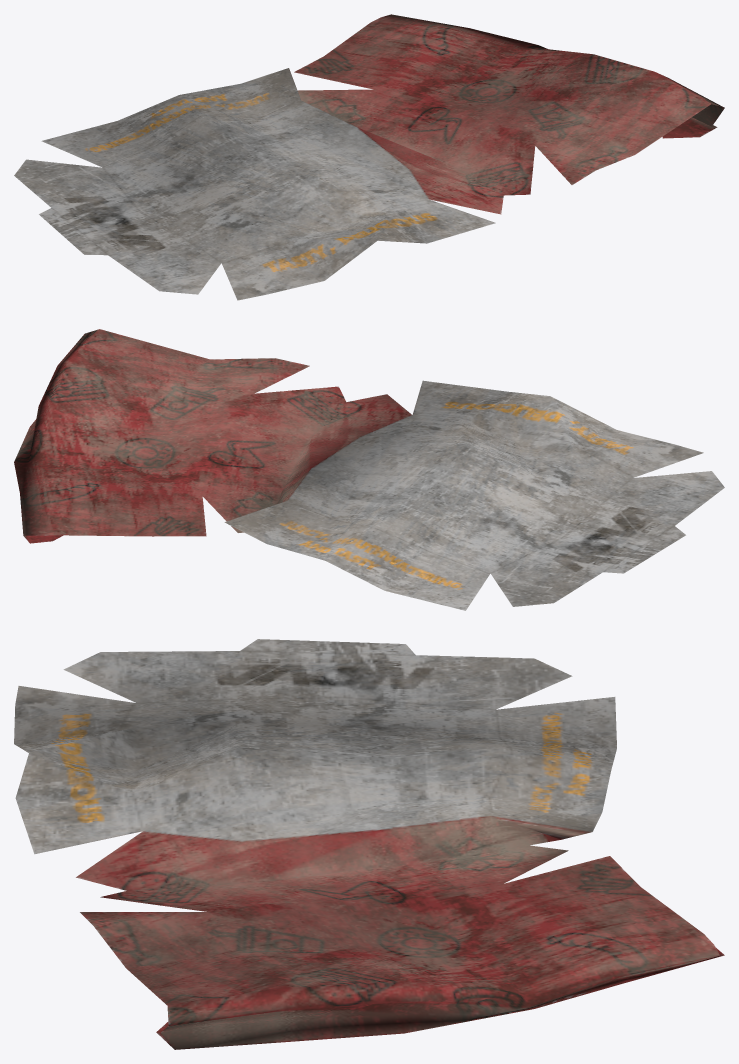
File: SM_Food_Package_Trash_01.fbx
3 renders of one model, top to bottom at view 1: azimuth 30°, elevation 25°; view 2: azimuth 150°, elevation 25°; view 3: azimuth 270°, elevation 25°, orthographic. The views are drawn at different scales.
Parts seen in each view (by area): view 1: SM_Food_Package_Trash_01_LOD0; view 2: SM_Food_Package_Trash_01_LOD0; view 3: SM_Food_Package_Trash_01_LOD0.
Part boxes in pixels (<box>): SM_Food_Package_Trash_01_LOD0: <box>14,14,724,300</box>; SM_Food_Package_Trash_01_LOD0: <box>14,329,724,610</box>; SM_Food_Package_Trash_01_LOD0: <box>14,639,724,1049</box>.
Size of the model in its own units: 70.72 by 50.95 by 3.8.
Materials: 1 (1 with a texture image).
